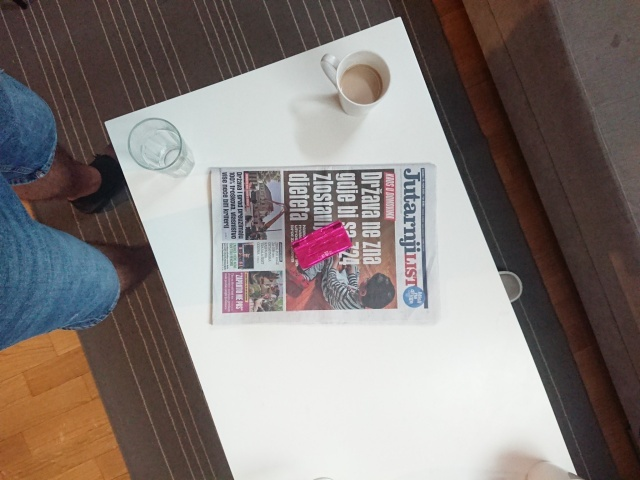Barcaffe Classic Original 225g: (289, 218, 355, 271)
